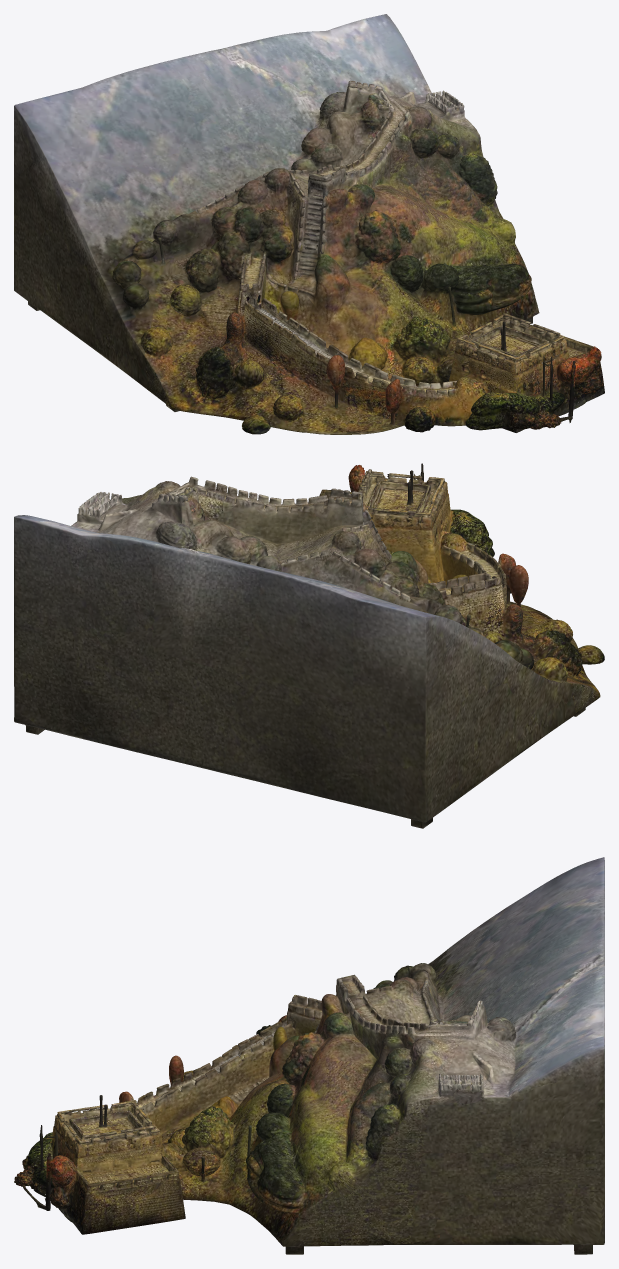
Rendered from greatwall.glb.
The picture shows the model from 3 angles, top to bottom: view 1: azimuth 30°, elevation 25°; view 2: azimuth 150°, elevation 25°; view 3: azimuth 270°, elevation 25°; orthographic projection. The views are drawn at different scales.
Visible parts, largest first — view 1: tripo_node_3e319465-d381-4616-8f98-1b67d188a232; view 2: tripo_node_3e319465-d381-4616-8f98-1b67d188a232; view 3: tripo_node_3e319465-d381-4616-8f98-1b67d188a232.
Boxes of the visible parts, left/top/right/bottom form: tripo_node_3e319465-d381-4616-8f98-1b67d188a232: left=14, top=14, right=604, bottom=434; tripo_node_3e319465-d381-4616-8f98-1b67d188a232: left=14, top=463, right=604, bottom=828; tripo_node_3e319465-d381-4616-8f98-1b67d188a232: left=14, top=857, right=604, bottom=1254.
Bounding box in the file's own units: 0.7542 × 0.3945 × 0.9792.
1 material, 1 textured.
